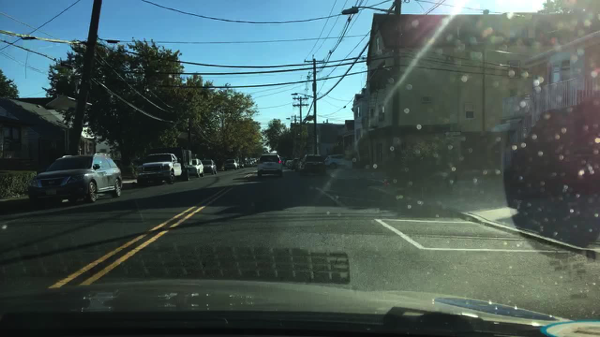car: (26, 153, 123, 210), (298, 154, 327, 177), (256, 154, 283, 178), (324, 154, 355, 170), (189, 158, 205, 178), (201, 160, 217, 176), (223, 159, 237, 171), (294, 158, 302, 172), (282, 157, 293, 166), (291, 158, 298, 170), (284, 160, 292, 167), (238, 161, 244, 169), (245, 161, 252, 167), (235, 161, 240, 169), (248, 159, 254, 165), (251, 158, 256, 164), (243, 162, 248, 167), (254, 157, 258, 162), (256, 157, 260, 161)
traffic sign: (444, 131, 462, 136)
truck: (136, 147, 192, 187)
